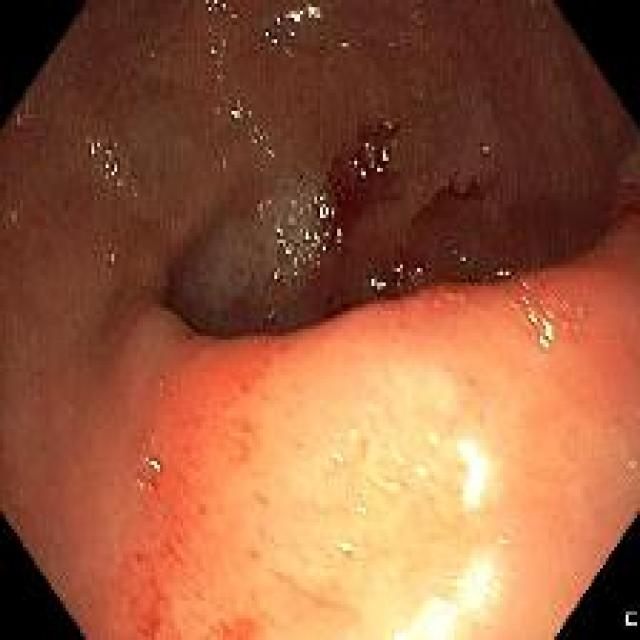bubbles: (183, 175, 336, 331), (366, 251, 430, 300), (616, 172, 638, 213), (474, 138, 492, 159), (105, 249, 120, 265), (479, 269, 492, 286)
contrast: (55, 17, 605, 335)
saturation: (303, 382, 537, 639), (387, 547, 510, 639), (460, 439, 494, 512)
specularity: (259, 4, 324, 49), (82, 132, 130, 188), (350, 142, 396, 180), (526, 308, 556, 350), (138, 449, 166, 484), (310, 188, 340, 220), (317, 446, 342, 480), (208, 42, 223, 87), (350, 496, 374, 524), (311, 224, 333, 254), (203, 3, 237, 20), (424, 426, 446, 449), (370, 267, 389, 290), (379, 476, 400, 496), (411, 458, 426, 484), (337, 537, 353, 556), (277, 238, 292, 255), (392, 451, 404, 467), (497, 266, 510, 279), (228, 107, 241, 120), (334, 227, 346, 241), (460, 252, 468, 265), (272, 269, 279, 280), (252, 137, 259, 147), (245, 109, 252, 119), (267, 315, 274, 323), (482, 146, 489, 154), (416, 267, 422, 274), (398, 265, 403, 271)
